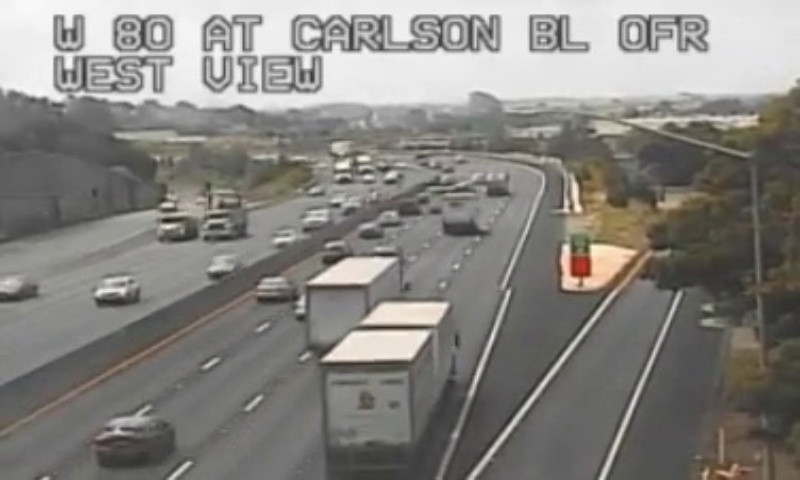car: (95, 416, 176, 467), (255, 276, 295, 303), (321, 241, 346, 261)
truck: (319, 299, 455, 480), (306, 256, 400, 353)
